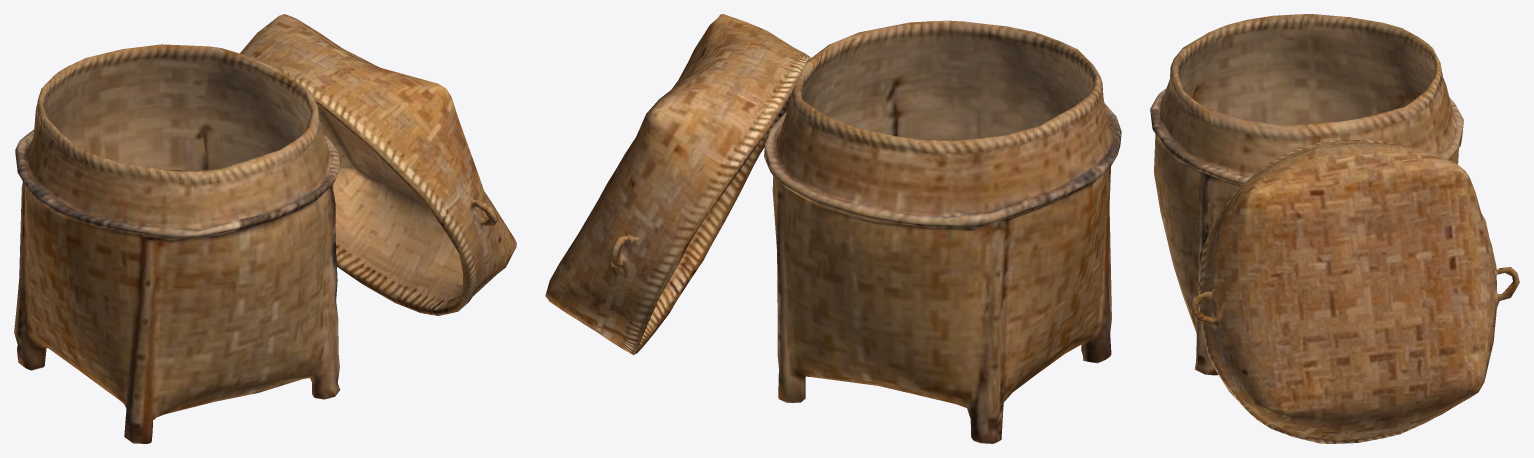
The model's file is wicker_basket_02.lod1.glb.
3 views of the same model, side by side, from view 1: azimuth 30°, elevation 25°; view 2: azimuth 150°, elevation 25°; view 3: azimuth 270°, elevation 25° (orthographic). The views are drawn at different scales.
Parts seen in each view (by area): view 1: wicker_basket_02_base, wicker_basket_02_lid; view 2: wicker_basket_02_base, wicker_basket_02_lid; view 3: wicker_basket_02_lid, wicker_basket_02_base.
Part boxes in pixels (left/top/right/bottom): wicker_basket_02_base: left=14, top=44, right=341, bottom=443; wicker_basket_02_lid: left=240, top=14, right=516, bottom=315; wicker_basket_02_base: left=764, top=20, right=1121, bottom=443; wicker_basket_02_lid: left=545, top=14, right=811, bottom=354; wicker_basket_02_lid: left=1189, top=140, right=1519, bottom=443; wicker_basket_02_base: left=1150, top=14, right=1463, bottom=375.
Bounding box in the file's own units: 0.3461 × 0.2004 × 0.2541.
1 material, 1 textured.
